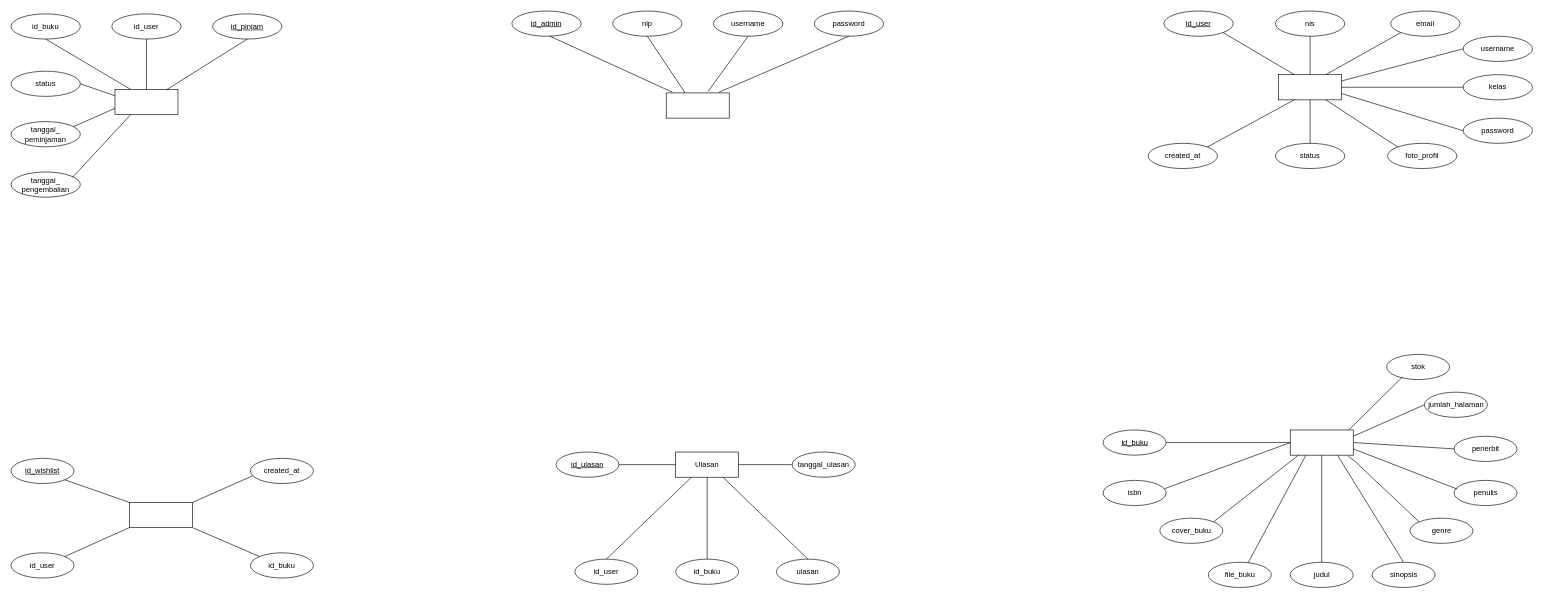
The diagram is 1544 pixels wide and 599 high, and some of its shapes have lost their labels. Each missing label, with the centre of its shape:
"Admin" belongs at point 697,105.
"Buku" belongs at point 1321,442.
"pinjam" belongs at point 146,102.
"User" belongs at point 1310,87.
"Wishlist" belongs at point 160,515.
